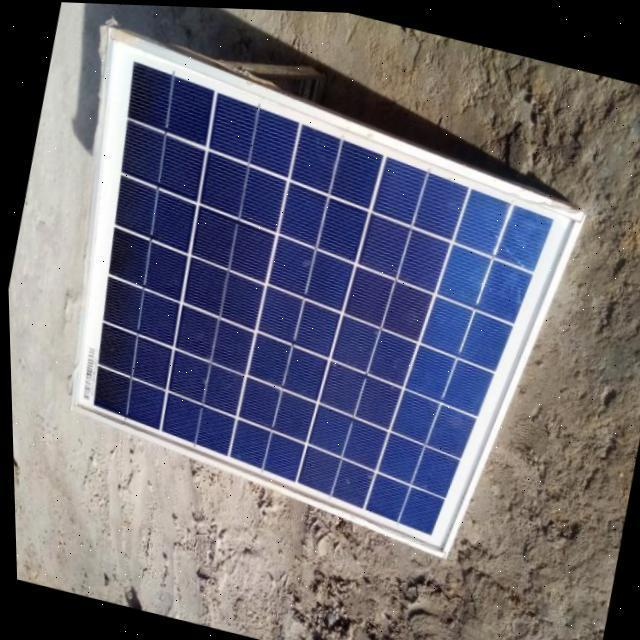Normal Solar Panel: (16, 28, 604, 578)
